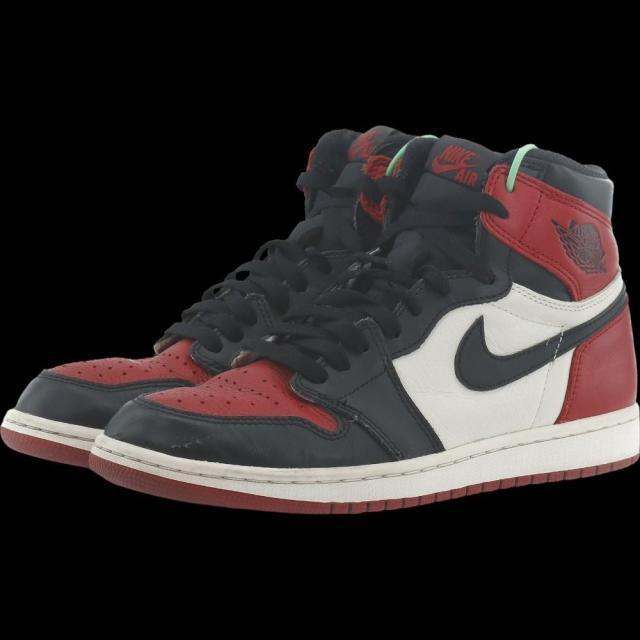nike original jordan 1: (86, 134, 640, 518), (1, 122, 452, 470)
